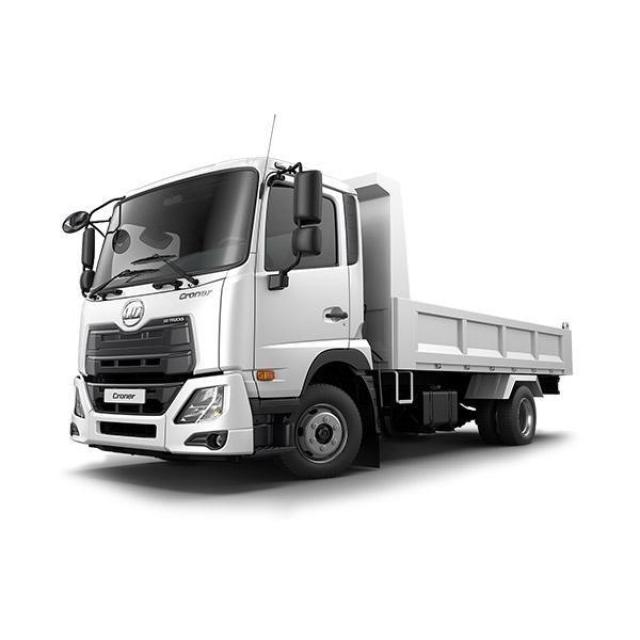Truck: (39, 174, 594, 484)
